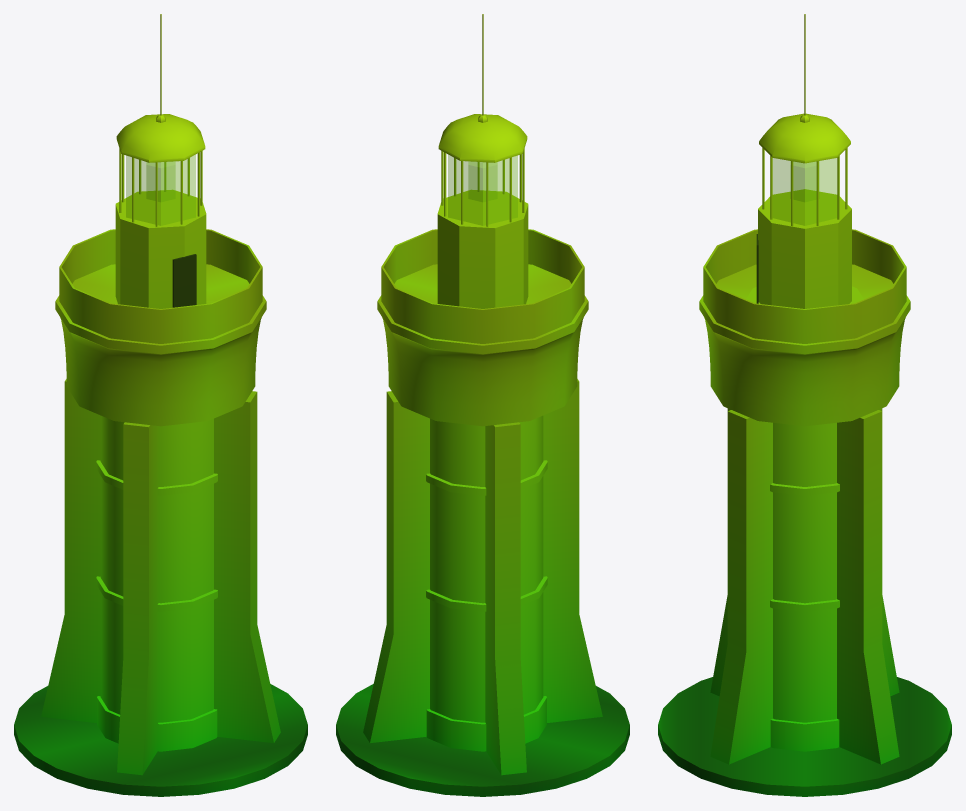
The model's file is hai_dang_vung_tau.mid.glb.
The picture shows the model from 3 angles, left to right: view 1: azimuth 30°, elevation 25°; view 2: azimuth 150°, elevation 25°; view 3: azimuth 270°, elevation 25°; orthographic projection.
Parts seen in each view (by area): view 1: hai_dang_vung_tau; view 2: hai_dang_vung_tau; view 3: hai_dang_vung_tau.
Part boxes in pixels (x1,y1,x2,y2): hai_dang_vung_tau: (14,14,307,796); hai_dang_vung_tau: (336,14,629,796); hai_dang_vung_tau: (658,14,951,796).
Size of what is drawn, in the model's own units: 7.8 by 21.1 by 7.8.
